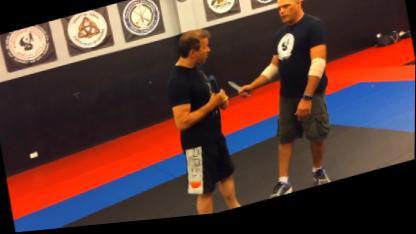knife: (225, 77, 252, 108)
